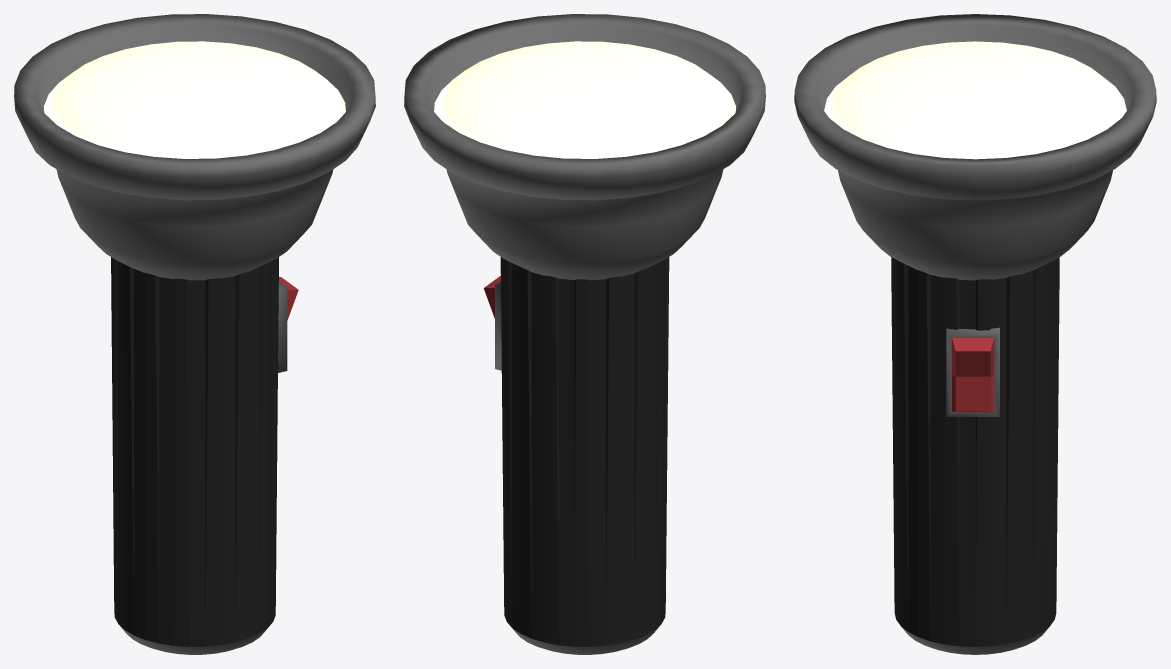
The model's file is flashlight.gltf.
The picture shows the model from 3 angles, left to right: view 1: azimuth 30°, elevation 25°; view 2: azimuth 150°, elevation 25°; view 3: azimuth 270°, elevation 25°; orthographic projection.
Parts seen in each view (by area): view 1: Cube; view 2: Cube; view 3: Cube.
Boxes of the visible parts, x1,y1,x2,y2 form: Cube: (14, 14, 375, 654); Cube: (404, 14, 765, 654); Cube: (794, 14, 1156, 654).
Size of the model in its own units: 0.0531 by 0.088 by 0.0531.
